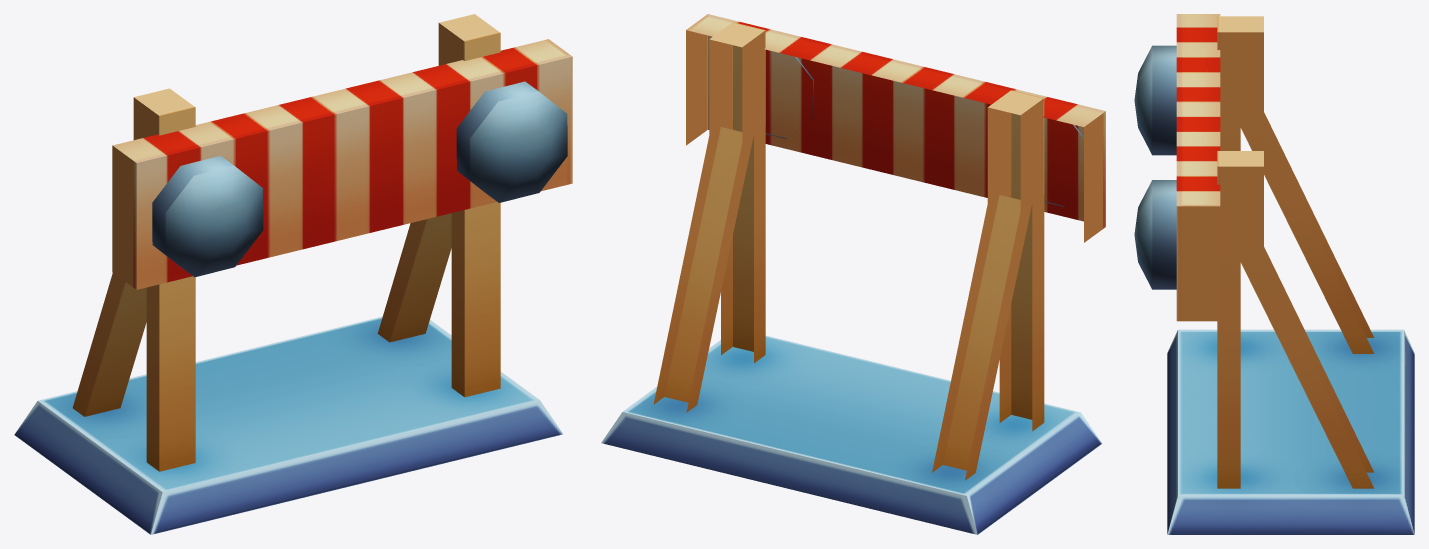
The model's file is Obstacle_02.fbx.
3 views of the same model, side by side, from view 1: azimuth 30°, elevation 25°; view 2: azimuth 150°, elevation 25°; view 3: azimuth 270°, elevation 25° (orthographic). The views are drawn at different scales.
Parts seen in each view (by area): view 1: Obstacle_02; view 2: Obstacle_02; view 3: Obstacle_02.
Boxes of the visible parts, <box> form: Obstacle_02: <box>14,14,572,534</box>; Obstacle_02: <box>601,14,1105,534</box>; Obstacle_02: <box>1134,14,1414,534</box>.
Bounding box in the file's own units: 346 × 295 × 213.
